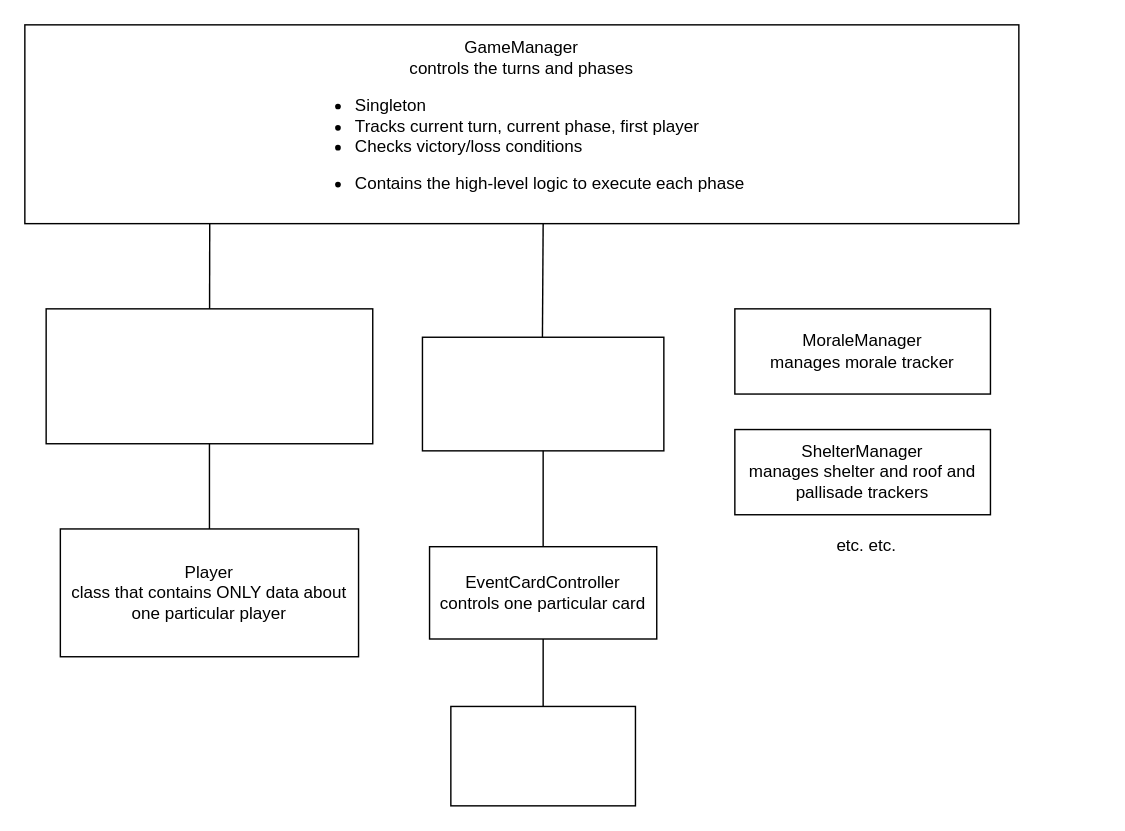
Image size: 1125x831. Some labels were removed from this diagram. Each missing label, with the box of its shape:
EventCard contains data for one event card: (449, 705, 635, 806)
EventCardManager manages event cards: (421, 336, 664, 451)
PlayerManager Singleton Stores players array Controls player data: (45, 307, 373, 444)
